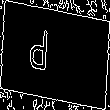P_S: (44, 28, 66, 82)
